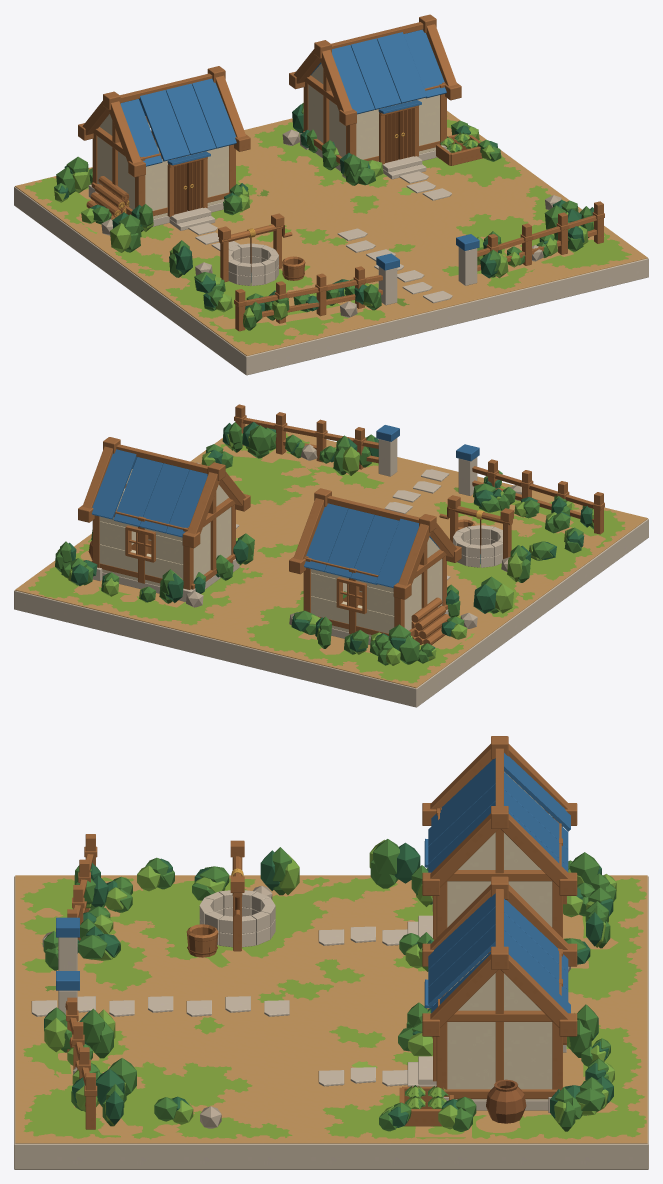
The model's file is city-2.glb.
3 renders of one model, top to bottom at view 1: azimuth 30°, elevation 25°; view 2: azimuth 150°, elevation 25°; view 3: azimuth 270°, elevation 25°, orthographic. The views are drawn at different scales.
Parts seen in each view (by area): view 1: SM_CT2_V4_Batch_1.001, SM_CT2_V4_Batch_51.001, SM_CT2_V4_Batch_0.001, SM_CT2_V4_Batch_44.001, SM_CT2_V4_Batch_13.001, SM_CT2_V4_Batch_27.001, SM_CT2_V4_Batch_38.001, SM_CT2_V4_Batch_20.001, SM_CT2_V4_Batch_18.001, SM_CT2_V4_Batch_6.001, SM_CT2_V4_Batch_4.001, SM_CT2_V4_Batch_45.001 (+17 smaller); view 2: SM_CT2_V4_Batch_1.001, SM_CT2_V4_Batch_51.001, SM_CT2_V4_Batch_0.001, SM_CT2_V4_Batch_44.001, SM_CT2_V4_Batch_27.001, SM_CT2_V4_Batch_13.001, SM_CT2_V4_Batch_18.001, SM_CT2_V4_Batch_46.001, SM_CT2_V4_Batch_4.001, SM_CT2_V4_Batch_38.001, SM_CT2_V4_Batch_6.001, SM_CT2_V4_Batch_20.001 (+11 smaller); view 3: SM_CT2_V4_Batch_1.001, SM_CT2_V4_Batch_51.001, SM_CT2_V4_Batch_0.001, SM_CT2_V4_Batch_44.001, SM_CT2_V4_Batch_18.001, SM_CT2_V4_Batch_27.001, SM_CT2_V4_Batch_13.001, SM_CT2_V4_Batch_20.001, SM_CT2_V4_Batch_6.001, SM_CT2_V4_Batch_45.001, SM_CT2_V4_Batch_46.001, SM_CT2_V4_Batch_15.001 (+13 smaller).
Boxes of the visible parts, <box> form: SM_CT2_V4_Batch_1.001: <box>15,111,647,355</box>; SM_CT2_V4_Batch_51.001: <box>25,116,631,345</box>; SM_CT2_V4_Batch_0.001: <box>14,186,648,375</box>; SM_CT2_V4_Batch_44.001: <box>54,103,593,330</box>; SM_CT2_V4_Batch_13.001: <box>120,78,236,166</box>; SM_CT2_V4_Batch_27.001: <box>311,29,446,114</box>; SM_CT2_V4_Batch_38.001: <box>234,201,604,331</box>; SM_CT2_V4_Batch_20.001: <box>289,14,461,125</box>; SM_CT2_V4_Batch_18.001: <box>308,63,439,161</box>; SM_CT2_V4_Batch_6.001: <box>78,66,250,177</box>; SM_CT2_V4_Batch_4.001: <box>97,114,228,219</box>; SM_CT2_V4_Batch_45.001: <box>54,126,593,324</box>; SM_CT2_V4_Batch_1.001: <box>15,424,647,688</box>; SM_CT2_V4_Batch_51.001: <box>28,433,625,683</box>; SM_CT2_V4_Batch_0.001: <box>14,518,648,707</box>; SM_CT2_V4_Batch_44.001: <box>55,422,593,665</box>; SM_CT2_V4_Batch_27.001: <box>91,449,207,537</box>; SM_CT2_V4_Batch_13.001: <box>304,503,439,587</box>; SM_CT2_V4_Batch_18.001: <box>99,469,231,586</box>; SM_CT2_V4_Batch_46.001: <box>68,422,592,652</box>; SM_CT2_V4_Batch_4.001: <box>311,537,442,637</box>; SM_CT2_V4_Batch_38.001: <box>234,404,604,534</box>; SM_CT2_V4_Batch_6.001: <box>289,488,461,599</box>; SM_CT2_V4_Batch_20.001: <box>78,437,250,548</box>; SM_CT2_V4_Batch_1.001: <box>15,875,647,1143</box>; SM_CT2_V4_Batch_51.001: <box>20,877,646,1139</box>; SM_CT2_V4_Batch_0.001: <box>14,876,648,1169</box>; SM_CT2_V4_Batch_44.001: <box>43,839,616,1131</box>; SM_CT2_V4_Batch_18.001: <box>447,954,552,1100</box>; SM_CT2_V4_Batch_27.001: <box>424,893,570,1013</box>; SM_CT2_V4_Batch_13.001: <box>424,753,570,872</box>; SM_CT2_V4_Batch_20.001: <box>422,876,577,1036</box>; SM_CT2_V4_Batch_6.001: <box>422,736,577,895</box>; SM_CT2_V4_Batch_45.001: <box>44,839,616,1129</box>; SM_CT2_V4_Batch_46.001: <box>44,842,613,1127</box>; SM_CT2_V4_Batch_15.001: <box>31,926,407,1086</box>.
Size of the model in its own units: 10 by 3.32 by 10.
16 materials, 5 textured.
